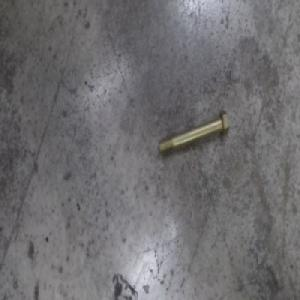Bolt: (158, 107, 229, 157)
